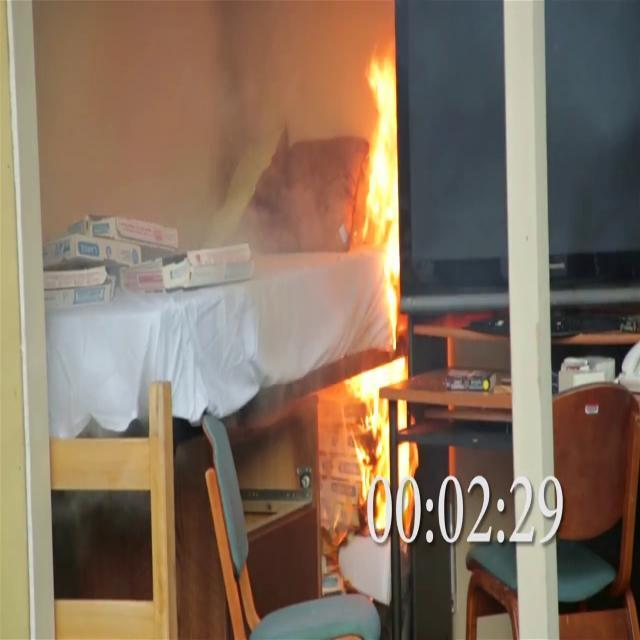Fire: (344, 32, 416, 530)
Smoke: (548, 1, 640, 258)
